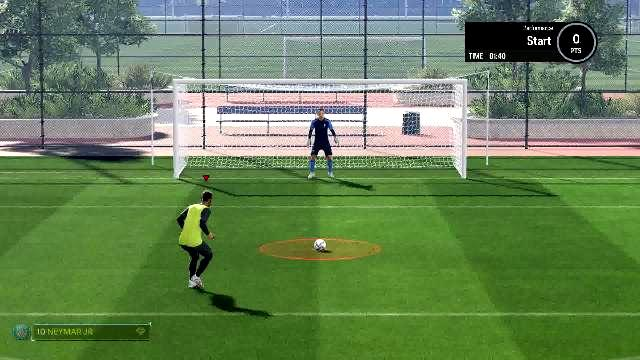bottom-left: (178, 132, 272, 178)
bottom-right: (364, 134, 458, 178)
center-down: (273, 132, 367, 178)
center-up: (272, 84, 366, 132)
circle: (261, 236, 383, 262)
football: (12, 323, 28, 341), (312, 238, 328, 252)
goalkeeper: (306, 106, 344, 180)
player: (174, 185, 222, 296)
top-left: (178, 86, 270, 132)
top-right: (370, 86, 462, 132)
